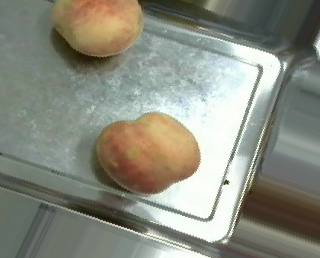Peach: (96, 111, 200, 193), (52, 0, 146, 57)
